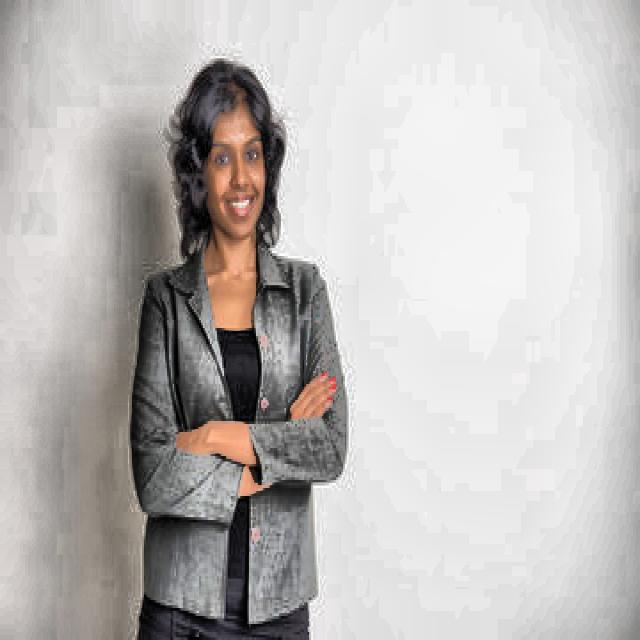Human: (122, 65, 348, 640)
